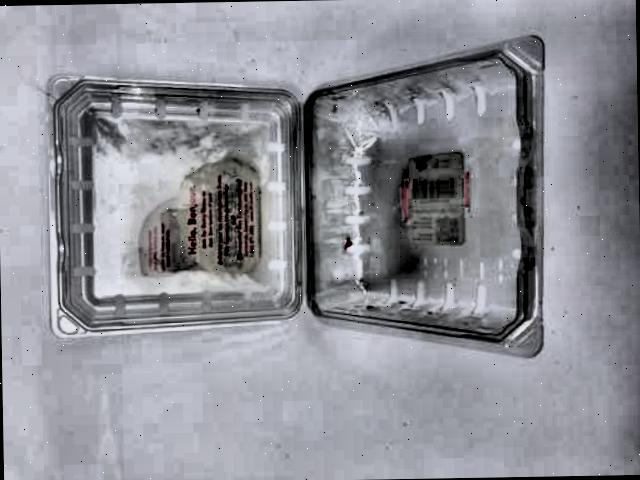Plastic: (29, 20, 581, 376)
